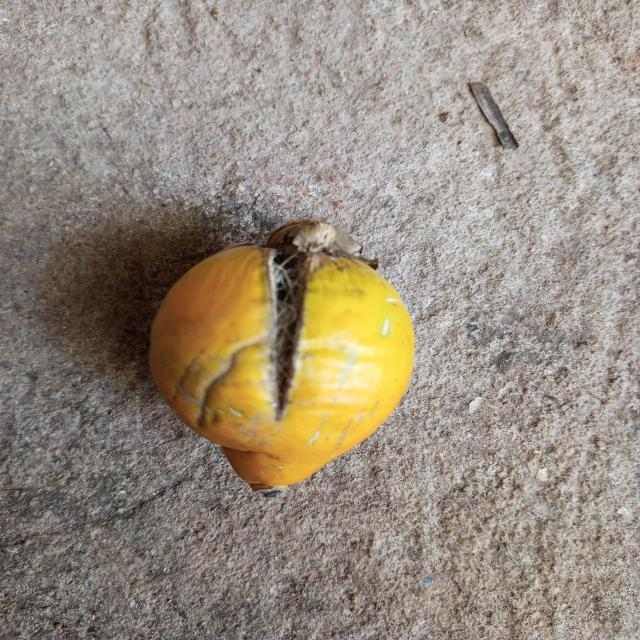damaged: (148, 224, 416, 491)
